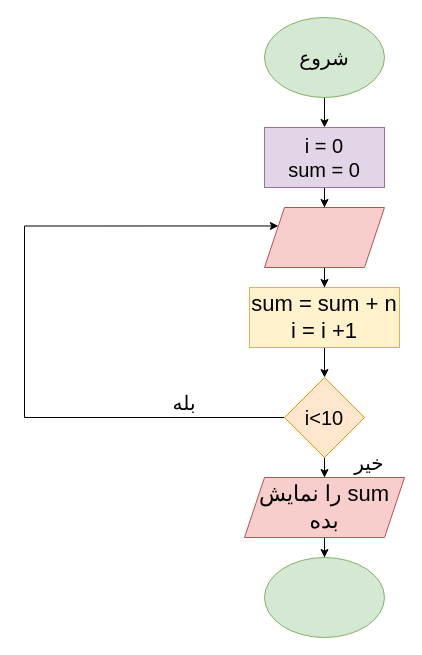
Some shapes in this 422 by 655 pixel diagram are drawn without their labels. Each missing label, with the box of its shape:
n را بگیر: (264, 206, 384, 268)
پایان: (264, 556, 384, 638)
